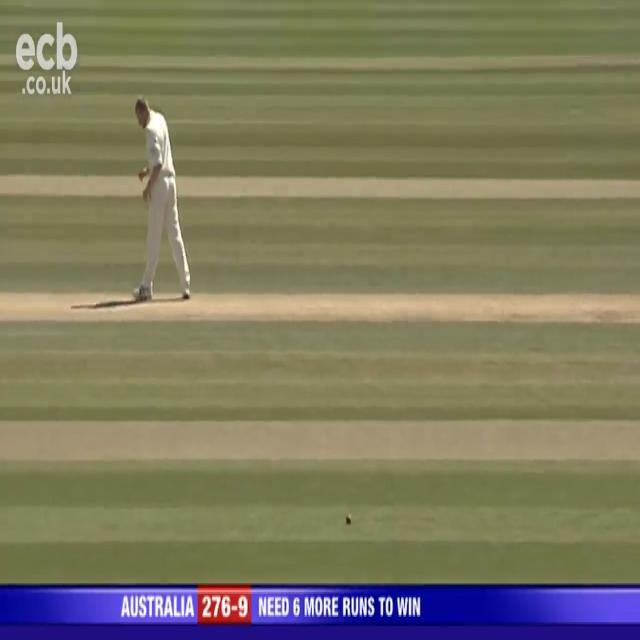ball: (342, 508, 356, 532)
